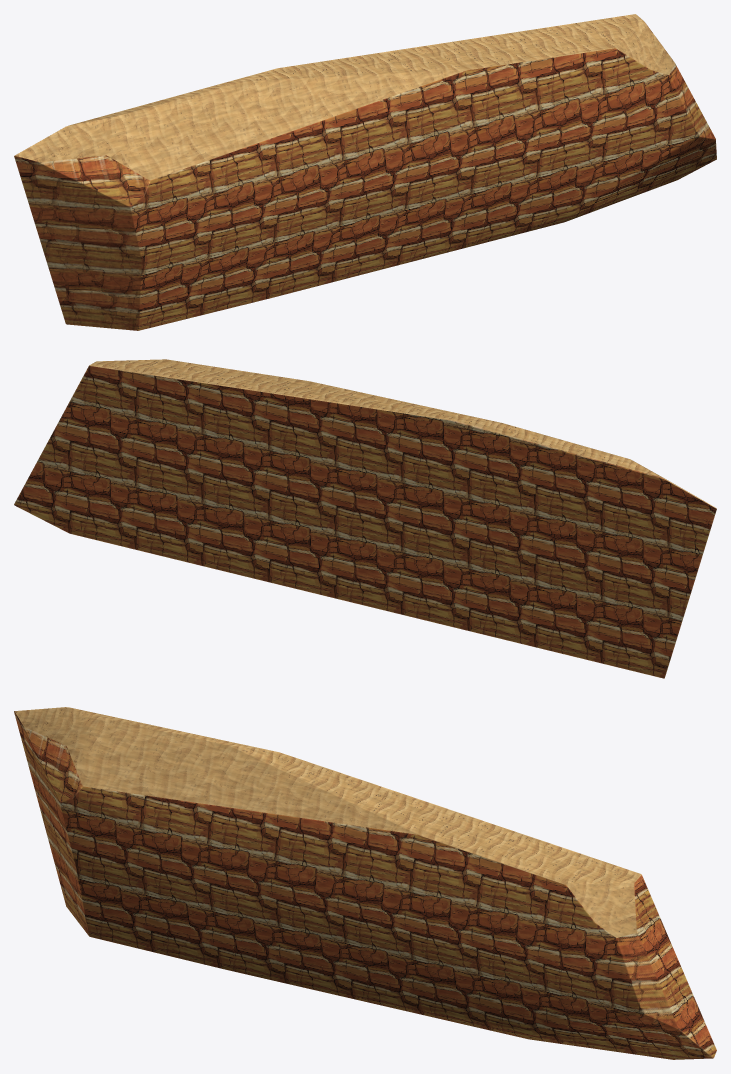
File: v4_cliff_n_02.glb
3 views of the same model, one above another, from view 1: azimuth 30°, elevation 25°; view 2: azimuth 150°, elevation 25°; view 3: azimuth 330°, elevation 25° (orthographic).
Parts seen in each view (by area): view 1: v4_cliff_n_02; view 2: v4_cliff_n_02; view 3: v4_cliff_n_02.
Part boxes in pixels (left/top/right/bottom): v4_cliff_n_02: left=14, top=14, right=716, bottom=330; v4_cliff_n_02: left=14, top=359, right=716, bottom=678; v4_cliff_n_02: left=14, top=707, right=716, bottom=1059.
Size of the model in its own units: 21.17 by 6 by 2.
1 material, 1 textured.
